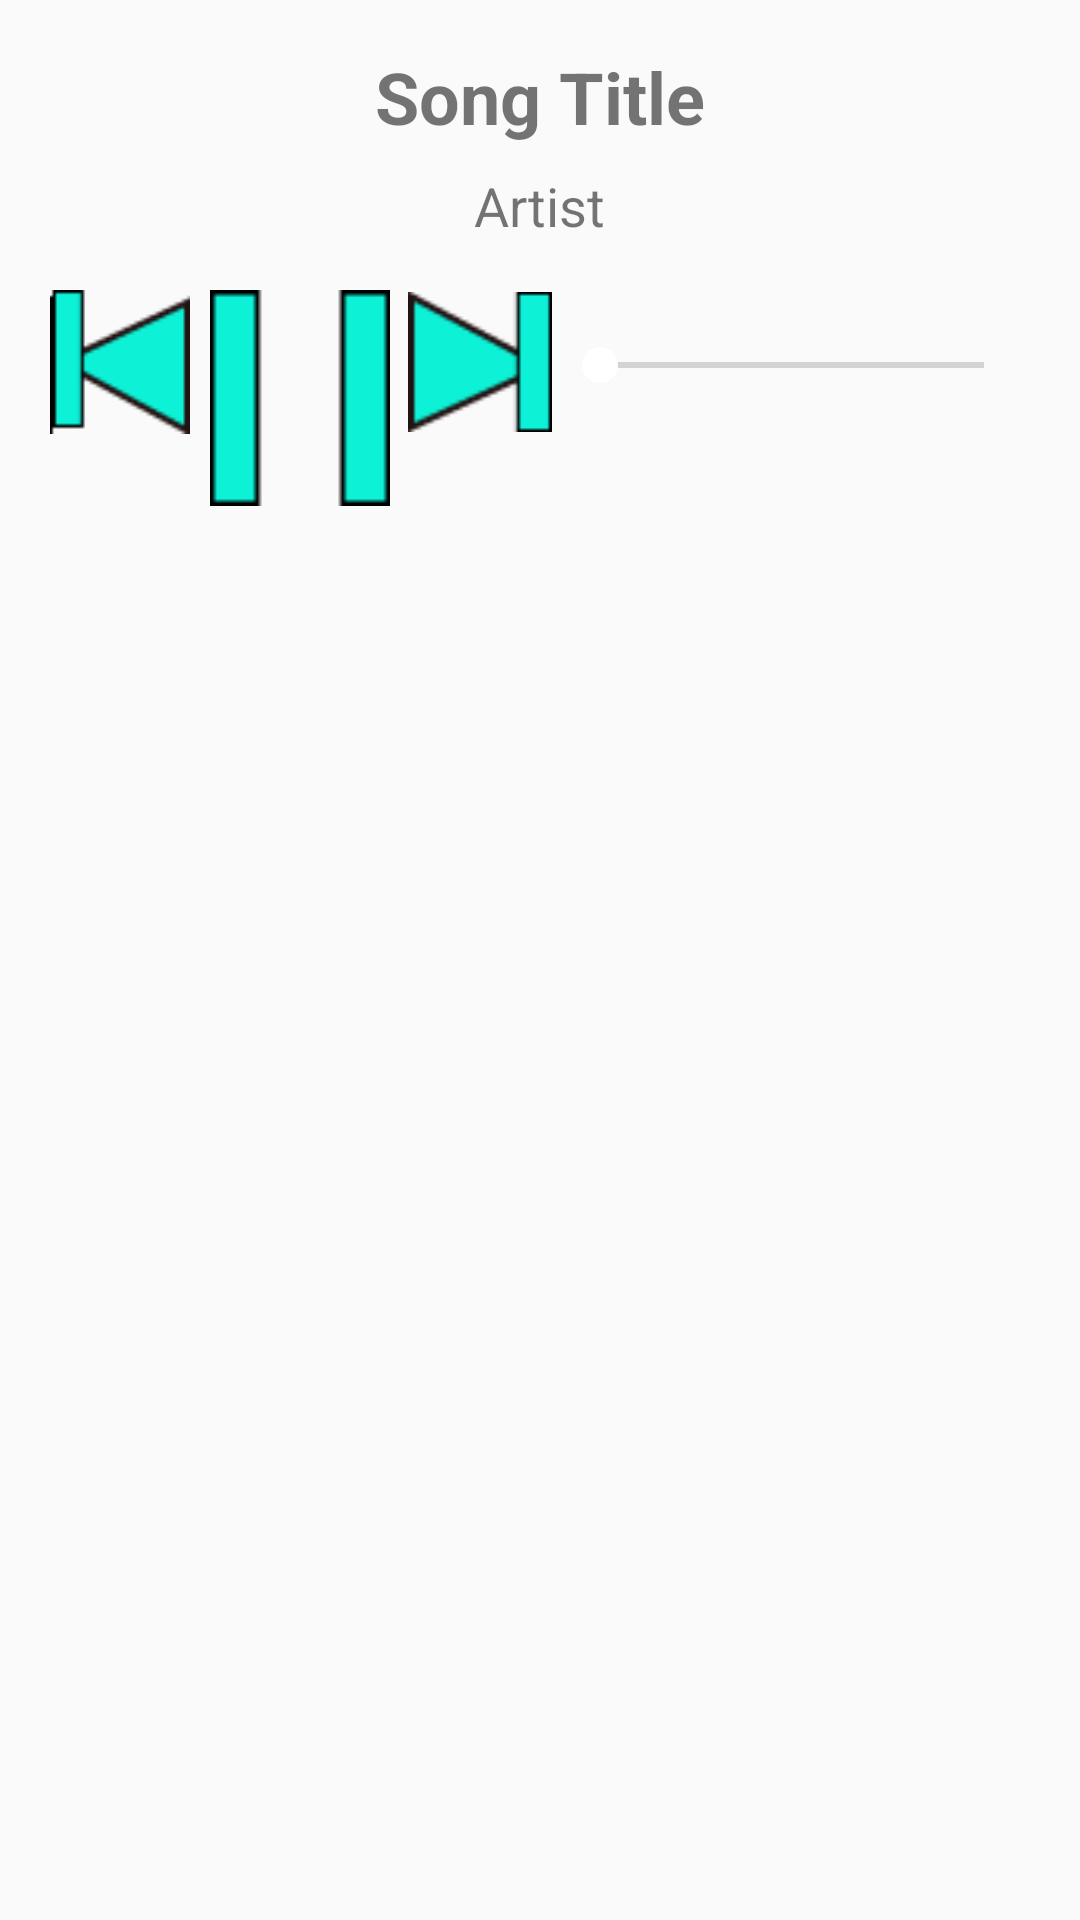

Where icons sit on this 1080 x 1920 app screen, as (x1, y1, x2, y2):
Next: (408, 292, 552, 432)
Play/Pause: (210, 290, 390, 506)
Previous: (50, 290, 190, 434)
